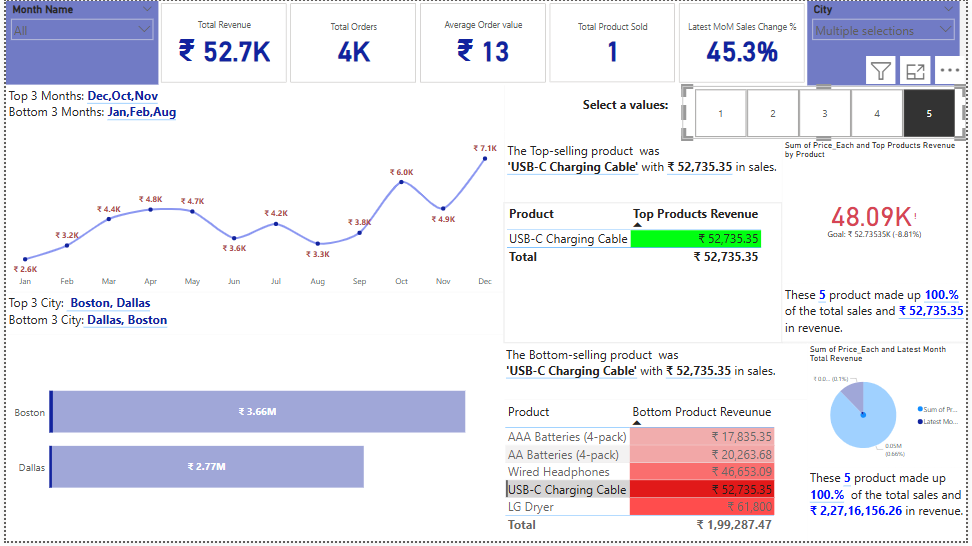

The page's visual inventory and layout, read from the dashboard file:
{"tool":"powerbi","page":{"name":"Page 1","canvas":[1920,1081],"ordinal":0},"visuals":[{"type":"cardVisual","fields":{"Data":["_Measures.Total Revenue","_Measures.Total Orders","_Measures.Average Order value","_Measures.Total Product Sold","_Measures.Latest MoM Sales Change %"]},"box":[304.8,0,1298,168.9],"z":0},{"type":"textbox","box":[0,167.1,996.9,93.6],"z":1000},{"type":"lineChart","fields":{"Y":["_Measures.Total Revenue"],"Category":["Calendar.Month Name"]},"box":[0,260.7,996.9,321.3],"z":2000},{"type":"clusteredBarChart","fields":{"Y":["_Measures.Total Revenue"],"Category":["Append1.City"]},"box":[0,666.4,996.9,414.9],"z":3000},{"type":"textbox","box":[0,582,996.9,84.5],"z":4000},{"type":"slicer","fields":{"Values":["Top N Selection.Value"]},"box":[1351.3,168.9,569.1,108.3],"z":5000},{"type":"tableEx","fields":{"Values":["Pseudo prod Table.Product","_Measures.Top Products Revenue"]},"box":[995.1,402.1,556.3,282.7],"z":6000},{"type":"textbox","box":[996.9,277.2,554.5,124.8],"z":7000},{"type":"textbox","box":[1551.4,565.5,369,115.7],"z":8000},{"type":"tableEx","fields":{"Values":["Append1.Product","_Measures.Bottomproductreveunue"]},"box":[991.4,796.8,611.4,284.6],"z":9000},{"type":"textbox","box":[996.9,167.1,358,110.2],"z":10000},{"type":"slicer","fields":{"Values":["Append1.City"]},"box":[1602.8,0,304.8,168.9],"z":11000},{"type":"slicer","fields":{"Values":["Calendar.Month Name"]},"box":[0,0,304.8,167.1],"z":12000},{"type":"textbox","box":[995.1,684.8,607.7,112],"z":13000},{"type":"textbox","box":[1602.8,932.7,317.6,148.7],"z":14000},{"type":"kpi","fields":{"Indicator":["Sum(Append1.Price_Each)"],"TrendLine":["Append1.Product"],"Goal":["_Measures.Top Products Revenue"]},"box":[1551.4,277.2,369,288.2],"z":15000},{"type":"pieChart","fields":{"Y":["Sum(Append1.Price_Each)","_Measures.Latest Month Total Revenue"]},"box":[1602.8,684.8,317.6,247.9],"z":16000}]}

Visuals, with their boxes in screenshot pixels (x1, y1, x2, y2), scaled from the page's 1920x1081 canvas onto the 972x546 screenshot:
cardVisual - _Measures.Total Revenue x _Measures.Total Orders: crop(154, 0, 811, 85)
textbox: crop(0, 84, 505, 132)
lineChart - _Measures.Total Revenue x Calendar.Month Name: crop(0, 132, 505, 294)
clusteredBarChart - _Measures.Total Revenue x Append1.City: crop(0, 337, 505, 545)
textbox: crop(0, 294, 505, 337)
slicer - Top N Selection.Value: crop(684, 85, 971, 140)
tableEx - Pseudo prod Table.Product x _Measures.Top Products Revenue: crop(504, 203, 785, 346)
textbox: crop(505, 140, 785, 203)
textbox: crop(785, 286, 971, 344)
tableEx - Append1.Product x _Measures.Bottomproductreveunue: crop(502, 402, 811, 545)
textbox: crop(505, 84, 686, 140)
slicer - Append1.City: crop(811, 0, 966, 85)
slicer - Calendar.Month Name: crop(0, 0, 154, 84)
textbox: crop(504, 346, 811, 402)
textbox: crop(811, 471, 971, 545)
kpi - Sum(Append1.Price_Each) x Append1.Product: crop(785, 140, 971, 286)
pieChart - Sum(Append1.Price_Each) x _Measures.Latest Month Total Revenue: crop(811, 346, 971, 471)
